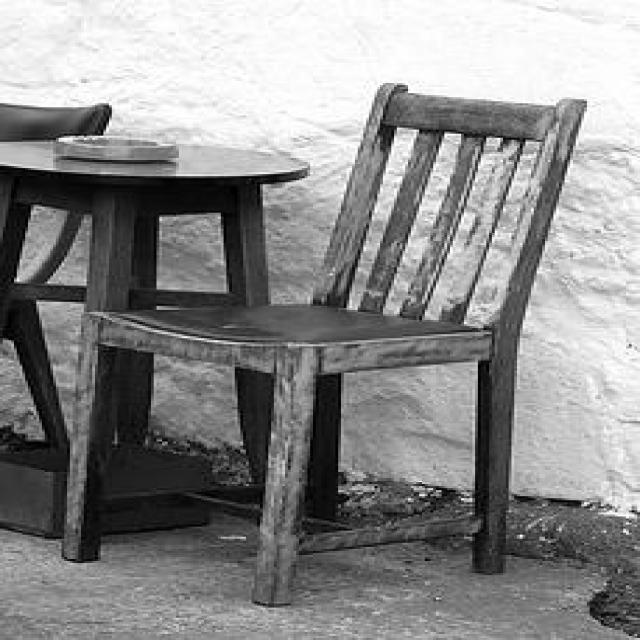chair: (68, 78, 592, 606)
